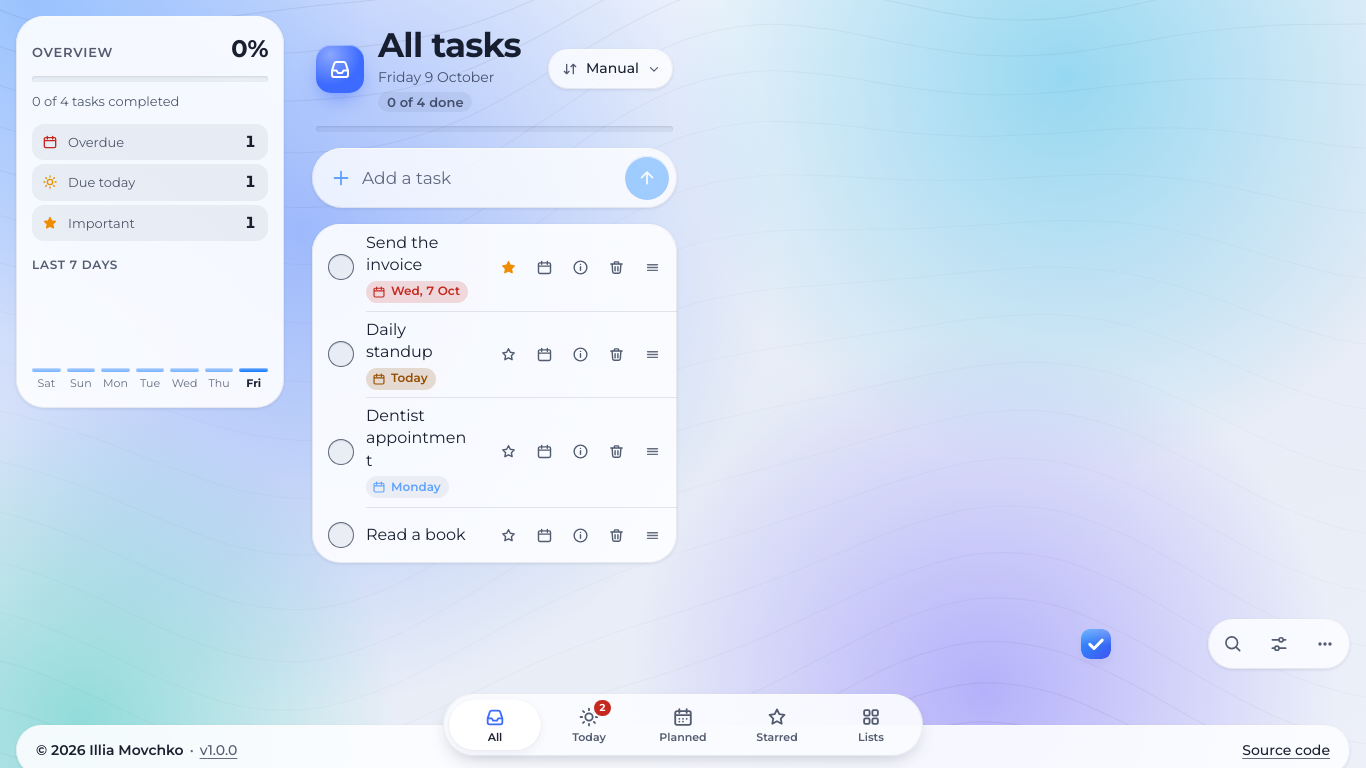
App shell › uses a bottom tab bar on narrow screens
This screenshot has width=1366, height=768.
Expected: the text "Planned" is shown, [659,730,707,744]
Step 1. Click the button named "Starred (1)" → point(777, 725), box [730,699,824,751]
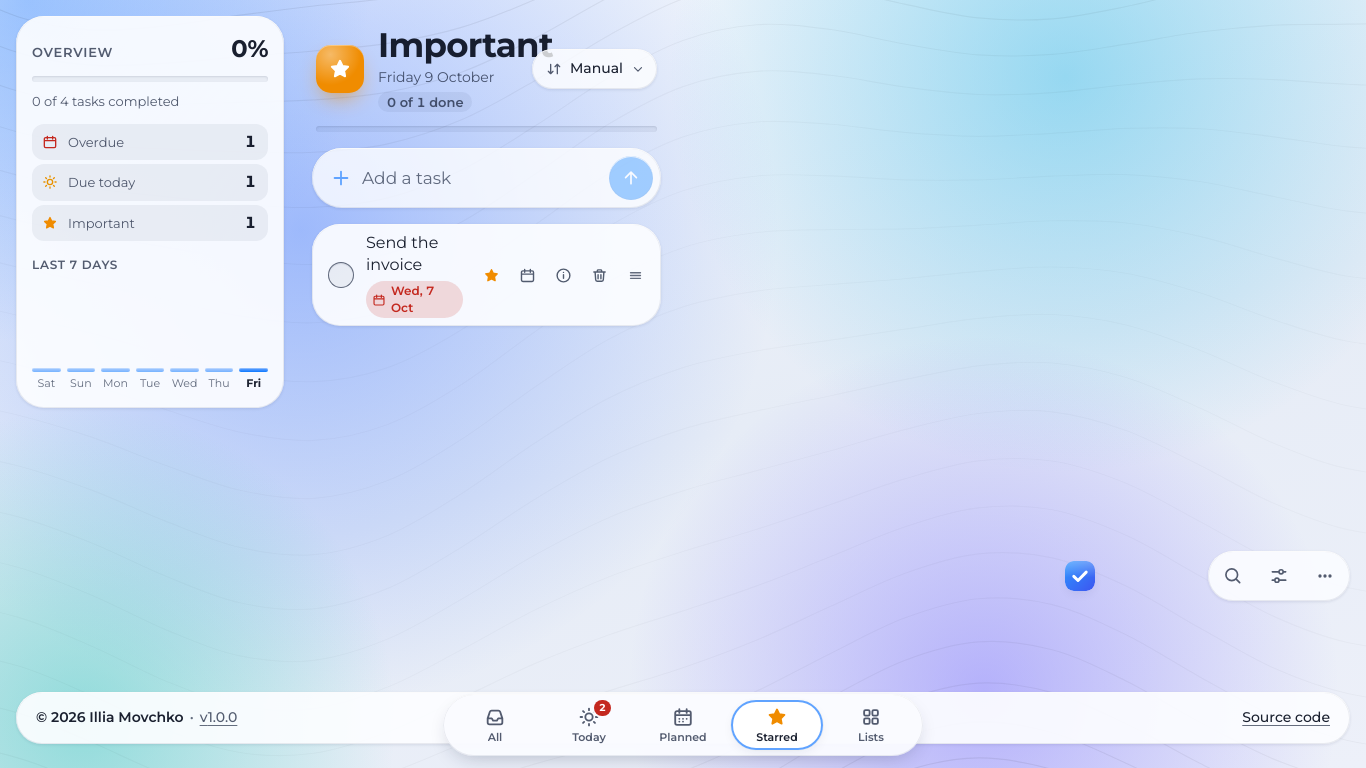
Expected: the heading "Overview" is shown, [32,43,113,61]
Now the heading "Important" is shown, box [378,26,518,64]
